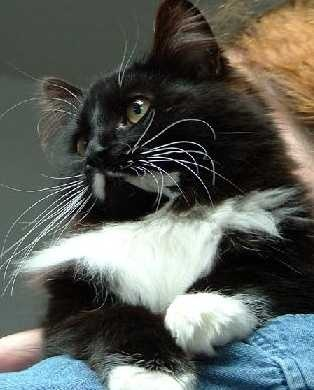Cat: (0, 0, 313, 287)
